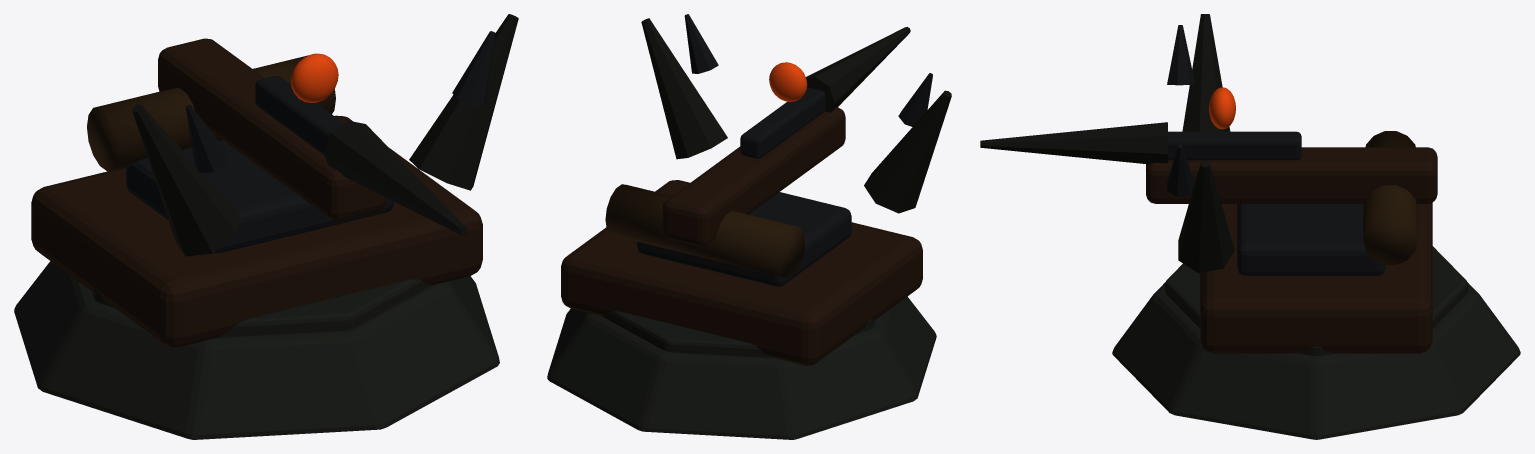
The model's file is TowerDemon0_pose.obj.
3 renders of one model, left to right at view 1: azimuth 30°, elevation 25°; view 2: azimuth 150°, elevation 25°; view 3: azimuth 270°, elevation 25°, orthographic. The views are drawn at different scales.
Parts seen in each view (by area): view 1: charred_stone_footing_lower_course, dark_oak_altar_bed, demon_stock, black_iron_pivot, bone_bow_limb, bone_bow_limb.001, bronze_blood_winch, bone_demon_bolt, charred_stone_footing_upper_course, iron_demon_guide, amber_cursed_sight, iron_limb_thorn.001 (+1 smaller); view 2: charred_stone_footing_lower_course, dark_oak_altar_bed, demon_stock, bronze_blood_winch, black_iron_pivot, bone_bow_limb.001, bone_bow_limb, charred_stone_footing_upper_course, bone_demon_bolt, iron_demon_guide, amber_cursed_sight, iron_limb_thorn.001 (+1 smaller); view 3: charred_stone_footing_lower_course, dark_oak_altar_bed, demon_stock, black_iron_pivot, bone_demon_bolt, bronze_blood_winch, bone_bow_limb.001, iron_demon_guide, charred_stone_footing_upper_course, bone_bow_limb, iron_limb_thorn, iron_limb_thorn.001 (+1 smaller).
Boxes of the visible parts, x1,y1,x2,y2 form: charred_stone_footing_lower_course: (14,261,499,439); dark_oak_altar_bed: (31,115,482,347); demon_stock: (158,38,386,220); black_iron_pivot: (126,140,393,253); bone_bow_limb: (132,104,239,256); bone_bow_limb.001: (409,14,518,190); bronze_blood_winch: (87,55,335,171); bone_demon_bolt: (323,120,467,235); charred_stone_footing_upper_course: (92,279,432,337); iron_demon_guide: (255,75,343,154); amber_cursed_sight: (291,53,338,102); iron_limb_thorn.001: (452,31,495,106); charred_stone_footing_lower_course: (547,296,936,439); dark_oak_altar_bed: (561,180,922,365); demon_stock: (662,107,845,246); bronze_blood_winch: (605,184,805,277); black_iron_pivot: (637,192,851,286); bone_bow_limb.001: (641,18,727,159); bone_bow_limb: (864,90,951,213); charred_stone_footing_upper_course: (601,311,874,357); bone_demon_bolt: (805,27,910,112); iron_demon_guide: (740,87,825,158); amber_cursed_sight: (769,62,807,101); iron_limb_thorn.001: (684,14,718,73); charred_stone_footing_lower_course: (1112,282,1520,439); dark_oak_altar_bed: (1200,202,1432,353); demon_stock: (1146,147,1437,203); black_iron_pivot: (1237,204,1385,275); bone_demon_bolt: (980,122,1167,164); bronze_blood_winch: (1363,131,1417,264); bone_bow_limb.001: (1178,160,1234,273); iron_demon_guide: (1168,131,1301,160); charred_stone_footing_upper_course: (1165,246,1467,355); bone_bow_limb: (1182,14,1230,131); iron_limb_thorn: (1167,25,1194,85); iron_limb_thorn.001: (1167,144,1194,196).
Size of the model in its own units: 1.65 by 1.2 by 2.19.
